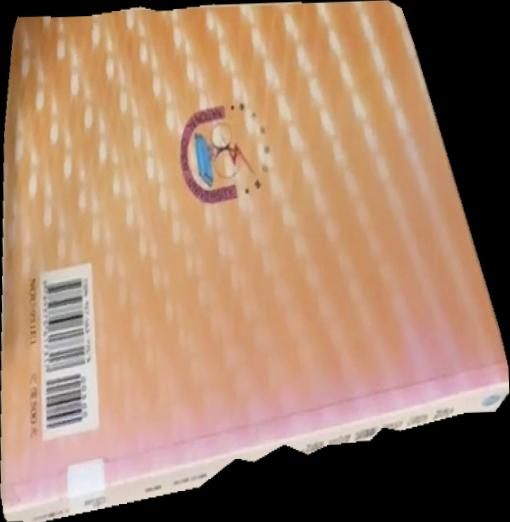flat: (1, 1, 510, 522)
